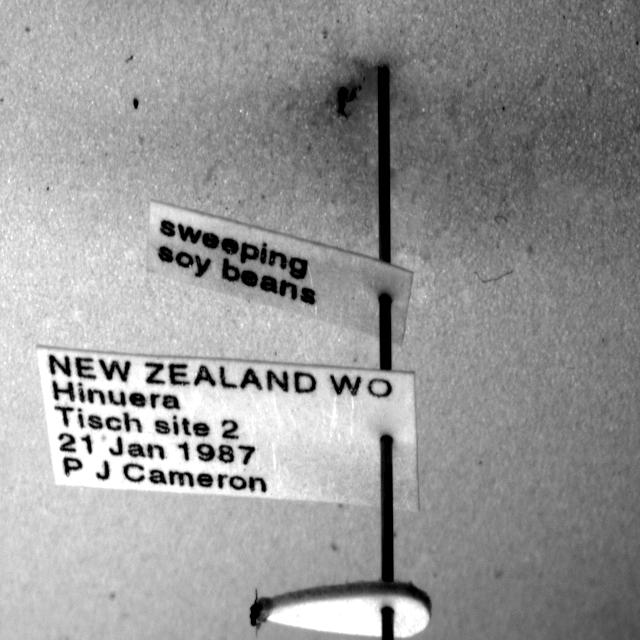typed_label: (38, 347, 419, 510), (148, 201, 412, 343)
